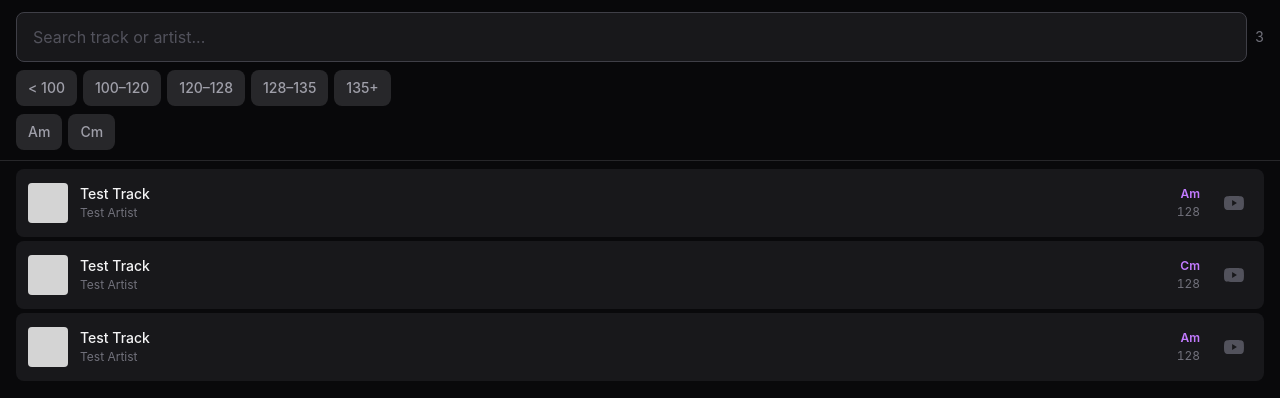
App — key filter › key pill filters to matching tracks
Click the button "Am": (39, 132) [16,114,62,150]
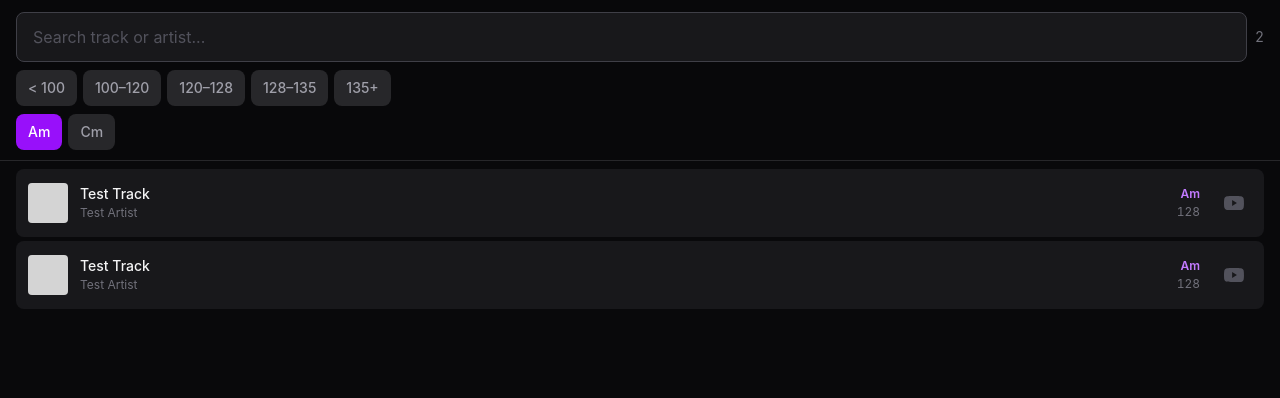
Result: the number of "TrackCard" components is 2 at [16,169,1264,237]; [16,241,1264,309]
